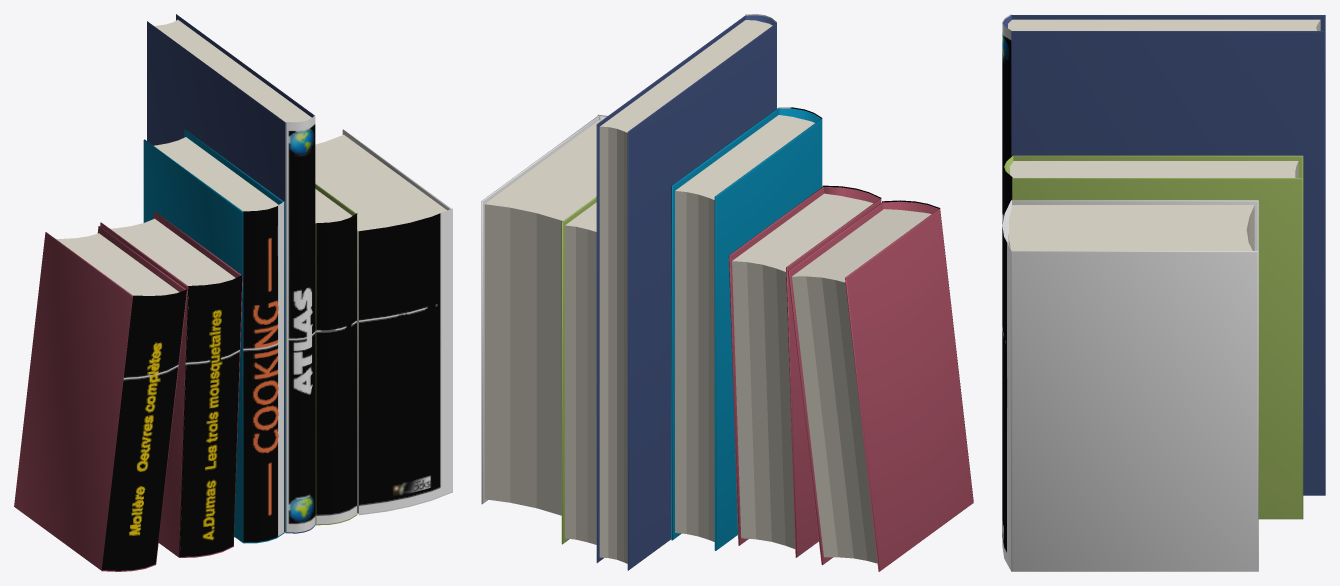
The model's file is libros.glb.
The picture shows the model from 3 angles, left to right: view 1: azimuth 30°, elevation 25°; view 2: azimuth 150°, elevation 25°; view 3: azimuth 270°, elevation 25°; orthographic projection. The views are drawn at different scales.
Parts seen in each view (by area): view 1: libros; view 2: libros; view 3: libros.
Part boxes in pixels (left/top/right/bottom): libros: left=14, top=14, right=452, bottom=571; libros: left=481, top=14, right=973, bottom=571; libros: left=1002, top=14, right=1325, bottom=571.
Bounding box in the file's own units: 24 × 26.9 × 16.9.
8 materials, 1 textured.
